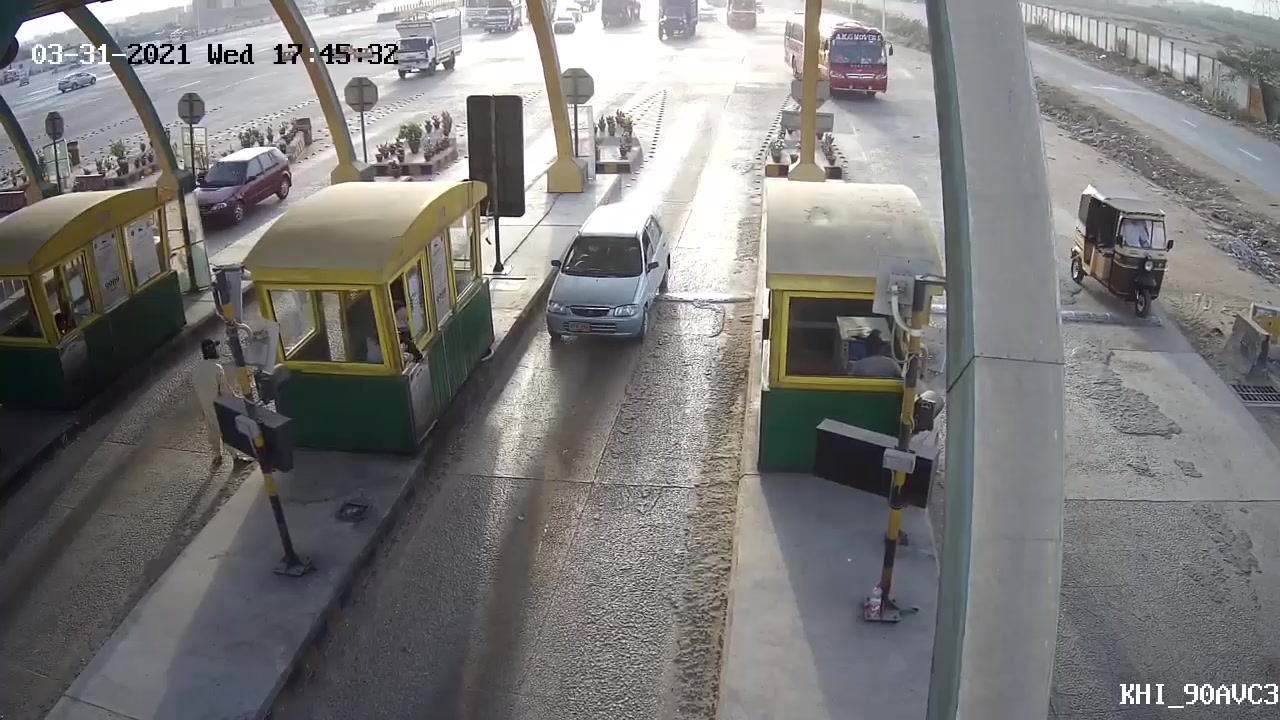F1: (540, 200, 674, 365)
